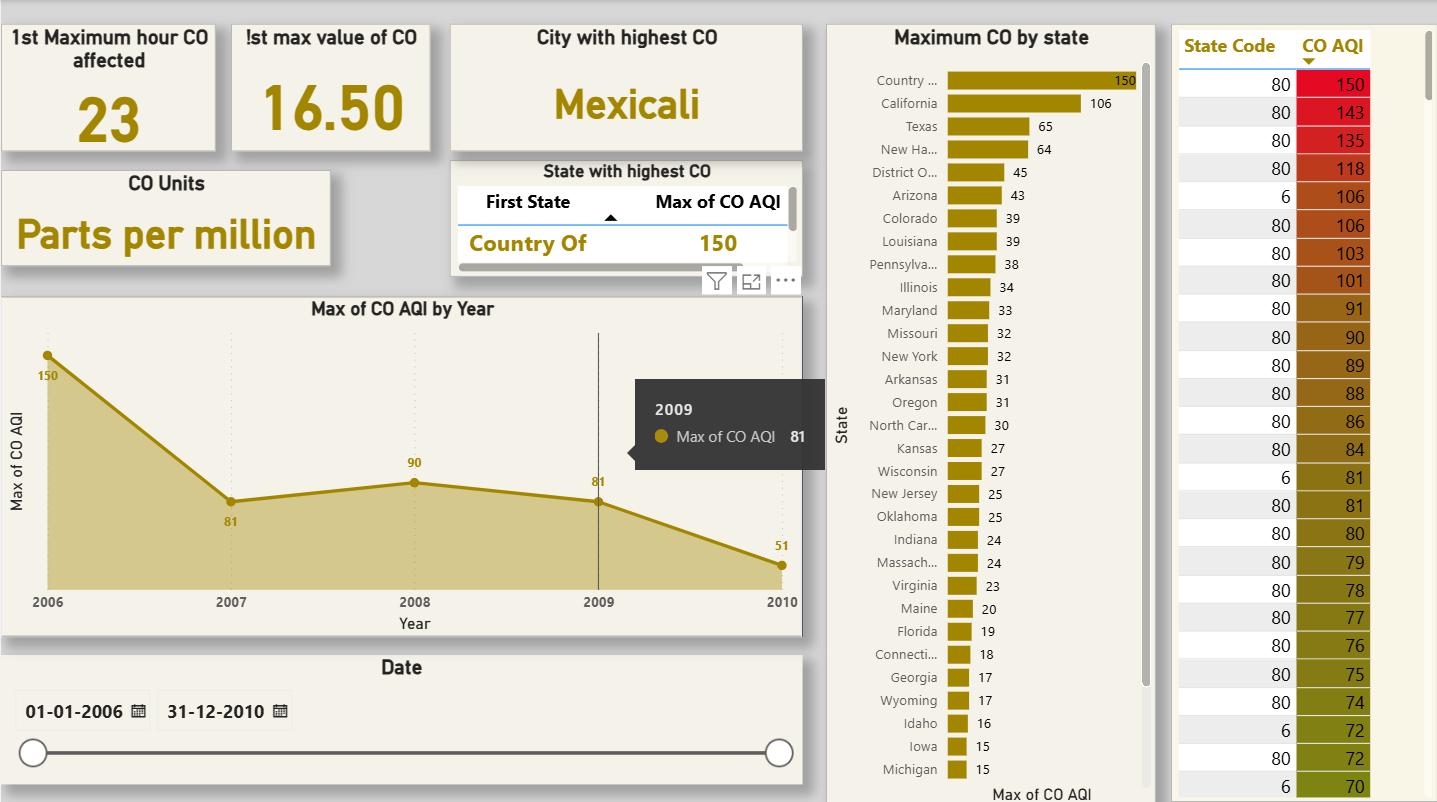

What the dashboard file says about the page in this screenshot:
{"tool":"powerbi","page":{"name":"Carbon Monoxide (CO)","canvas":[1280,720],"ordinal":1},"visuals":[{"type":"barChart","title":"Maximum CO by state","fields":{"Category":["US Pollution.State"],"Y":["Max(US Pollution.CO AQI)"]},"box":[734.7,20.8,293.5,698.7],"z":0},{"type":"card","title":"1st Maximum hour CO affected","fields":{"Values":["Max(US Pollution.CO 1st Max Hour)"]},"box":[0,20.8,191.2,113.6],"z":1000},{"type":"card","title":"!st max value of CO","fields":{"Values":["Max(US Pollution.CO 1st Max Value)"]},"box":[204.5,20.8,178,113.6],"z":2000},{"type":"card","title":"CO Units ","fields":{"Values":["Min(US Pollution.CO Units)"]},"box":[0,151.5,293.5,85.2],"z":3000},{"type":"tableEx","fields":{"Values":["US Pollution.State Code","US Pollution.CO AQI"]},"box":[1041.4,20.8,238.6,693],"z":4000},{"type":"tableEx","title":"State with highest CO","fields":{"Values":["Min(US Pollution.State)","Max(US Pollution.CO AQI)"]},"box":[399.5,142,314.3,104.1],"z":5000},{"type":"slicer","title":"Date","fields":{"Values":["US Pollution.Date Local"]},"box":[0,583.2,713.8,115.5],"z":6000},{"type":"areaChart","fields":{"Category":["US Pollution.Date Local.Variation.Date Hierarchy.Year"],"Y":["Max(US Pollution.CO AQI)"]},"box":[0,263.8,713.6,303.6],"z":7000},{"type":"card","title":"City with highest CO ","fields":{"Values":["Min(US Pollution.City)"]},"box":[399.5,20.8,314.3,113.6],"z":8000}]}

Visuals, with their boxes in screenshot pixels (x1, y1, x2, y2), scaled from the page's 1280x720 canvas onto the 1437x802 screenshot:
"Maximum CO by state" barChart: {"x1": 825, "y1": 23, "x2": 1154, "y2": 801}
"1st Maximum hour CO affected" card: {"x1": 0, "y1": 23, "x2": 215, "y2": 150}
"!st max value of CO" card: {"x1": 230, "y1": 23, "x2": 429, "y2": 150}
"CO Units " card: {"x1": 0, "y1": 169, "x2": 329, "y2": 264}
tableEx - US Pollution.State Code x US Pollution.CO AQI: {"x1": 1169, "y1": 23, "x2": 1436, "y2": 795}
"State with highest CO" tableEx: {"x1": 449, "y1": 158, "x2": 801, "y2": 274}
"Date" slicer: {"x1": 0, "y1": 650, "x2": 801, "y2": 778}
areaChart - US Pollution.Date Local.Variation.Date Hierarchy.Year x Max(US Pollution.CO AQI): {"x1": 0, "y1": 294, "x2": 801, "y2": 632}
"City with highest CO " card: {"x1": 449, "y1": 23, "x2": 801, "y2": 150}
